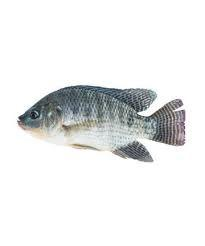Tilapia: (16, 84, 186, 165)
